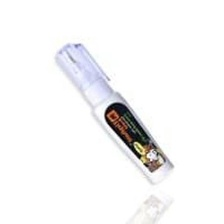correction_fluid: (53, 40, 179, 186)
